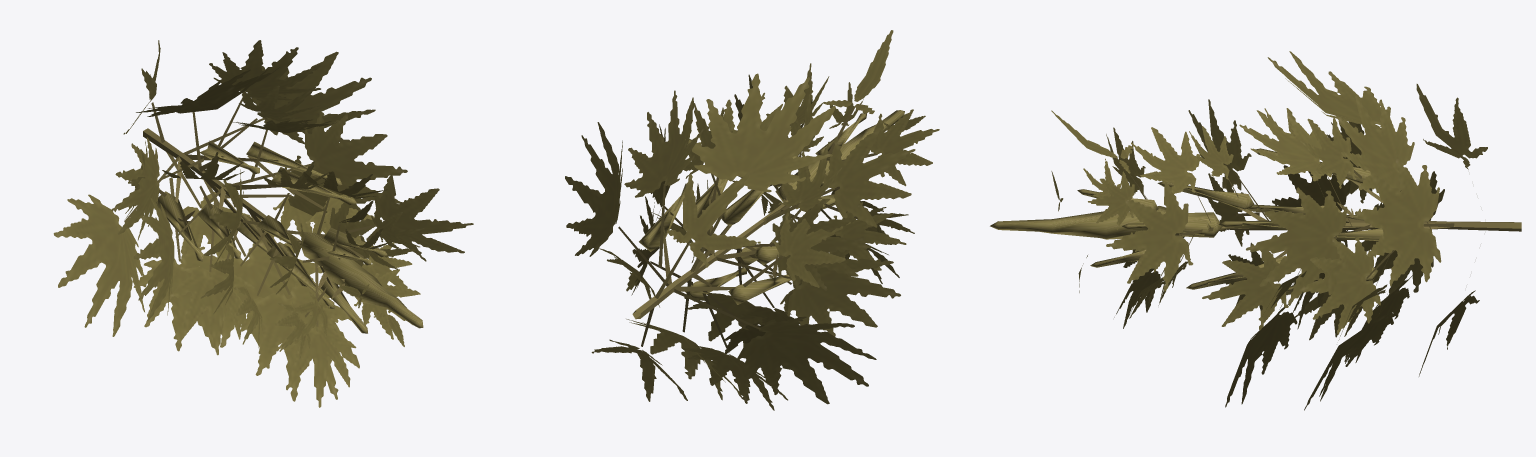
Rendered from p_haze_flowering_c2_cards.obj.
3 renders of one model, left to right at view 1: azimuth 30°, elevation 25°; view 2: azimuth 150°, elevation 25°; view 3: azimuth 270°, elevation 25°, orthographic. The views are drawn at different scales.
Bounding box in the file's own units: 1.71 × 1.59 × 2.03.
Materials: 1 (1 with a texture image).
